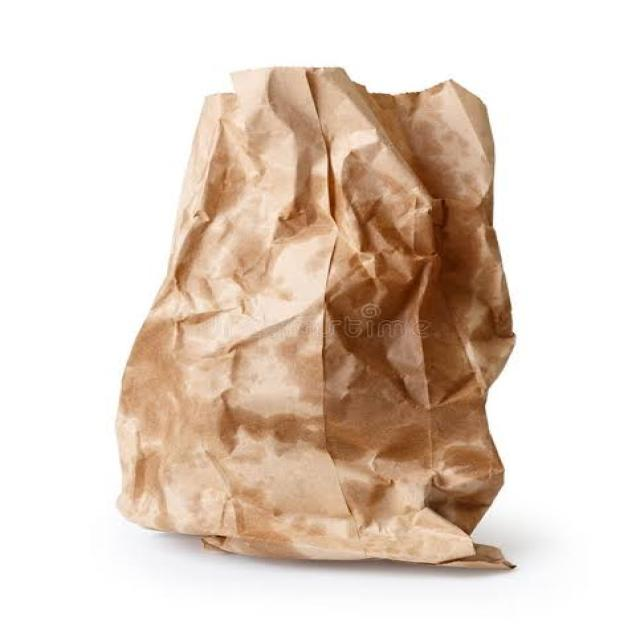paper: (109, 56, 529, 590)
